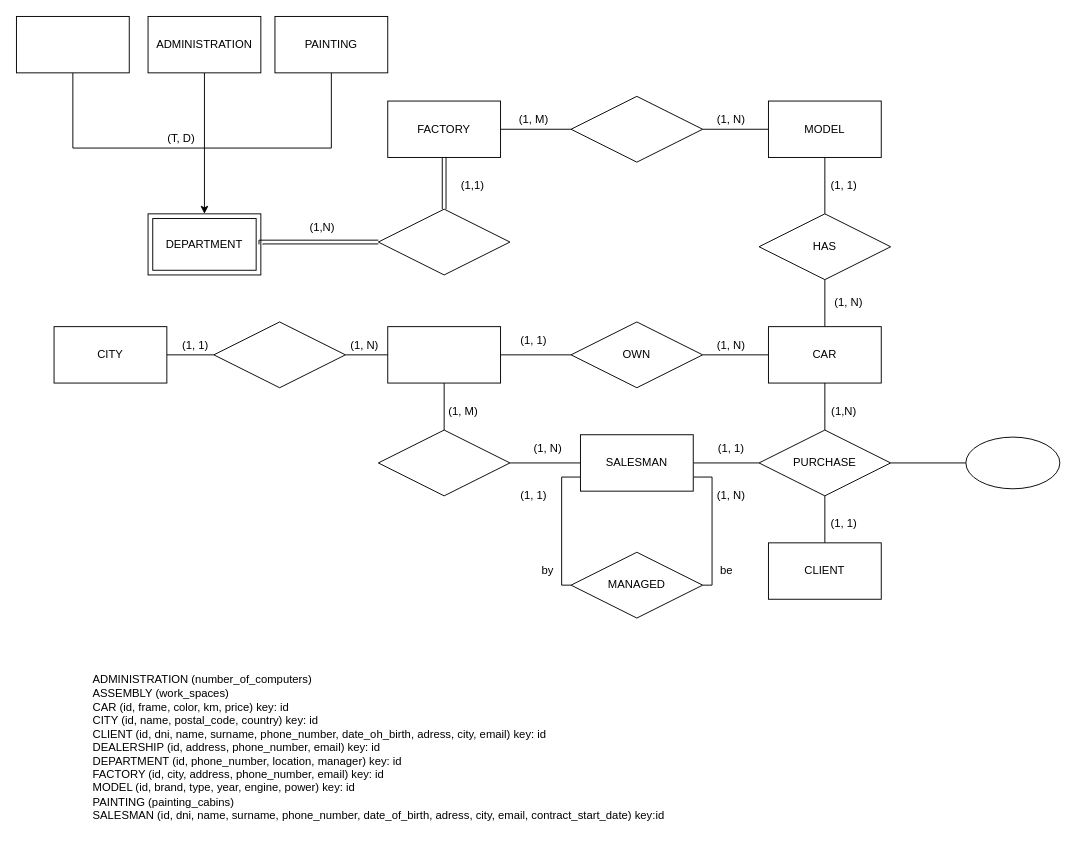
Some shapes in this 1076 by 860 pixel diagram are drawn without their labels. The shapes that lost their labels are listed below. From the top down, each one's box as (x1, y1, x2, y2) in pixels, then its label:
(16, 16, 129, 73): ASSEMBLY
(570, 95, 703, 162): MANUFACTURE
(377, 208, 510, 275): BELONGS
(213, 321, 345, 388): LOCATED
(387, 326, 501, 383): DEALERSHIP
(377, 429, 510, 496): WORK
(965, 436, 1060, 489): date_of_purchase
